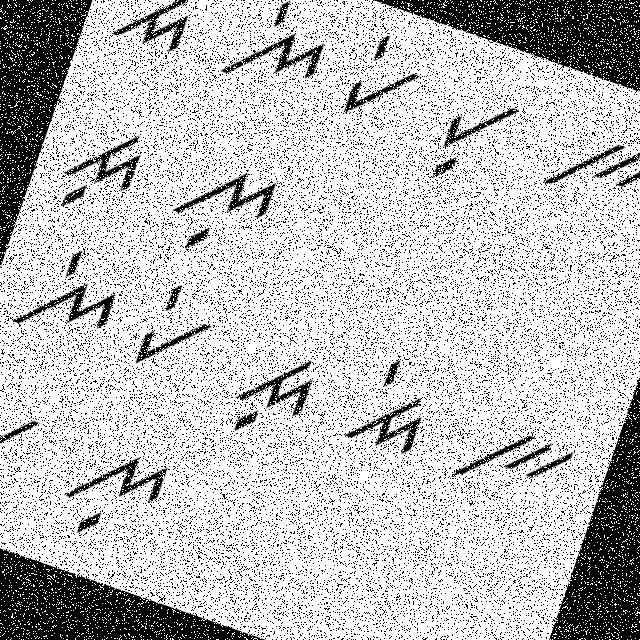de: (320, 336, 450, 474), (108, 0, 217, 64)
du: (216, 316, 333, 458), (42, 101, 160, 232)
ne: (0, 223, 133, 360), (214, 0, 344, 105)
nu: (40, 424, 183, 566), (156, 140, 288, 277)
pe: (125, 258, 232, 388), (327, 17, 433, 136)
pu: (414, 69, 530, 204), (0, 380, 52, 514)
